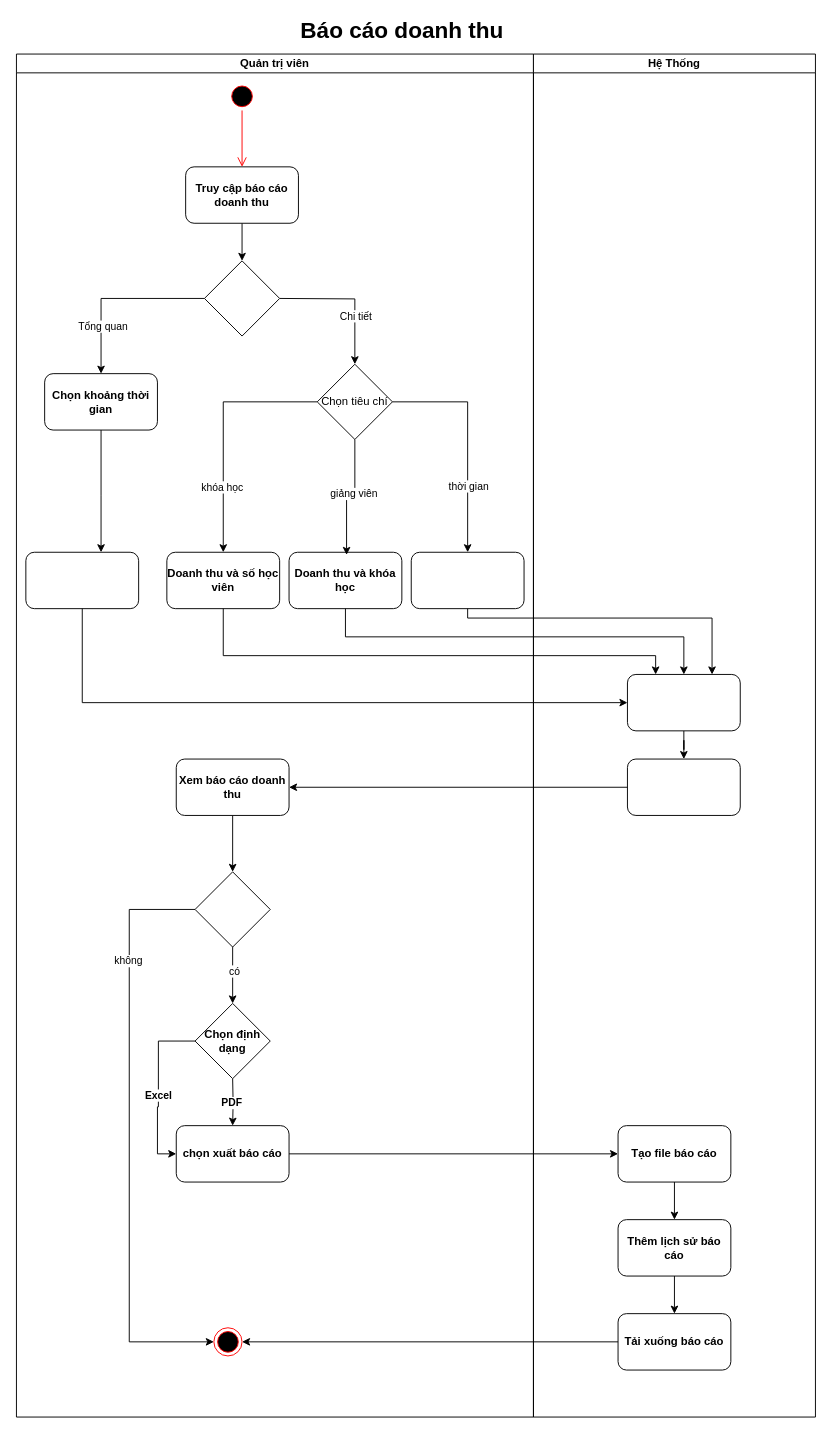
Image size: 832x1434. Some labels were removed from this diagram. Here are the shapes that lost their labels. From the top down, the centre of each, then its label:
At (x=242, y=298): "Chọn loại báo cáo".
At (x=82, y=580): "Xem thống kê tổng quát".
At (x=467, y=580): "Doanh thu theo kỳ".
At (x=683, y=702): "Tải dữ liệu doanh thu".
At (x=683, y=786): "Tạo báo cáo".
At (x=232, y=909): "Xuất báo cáo".
